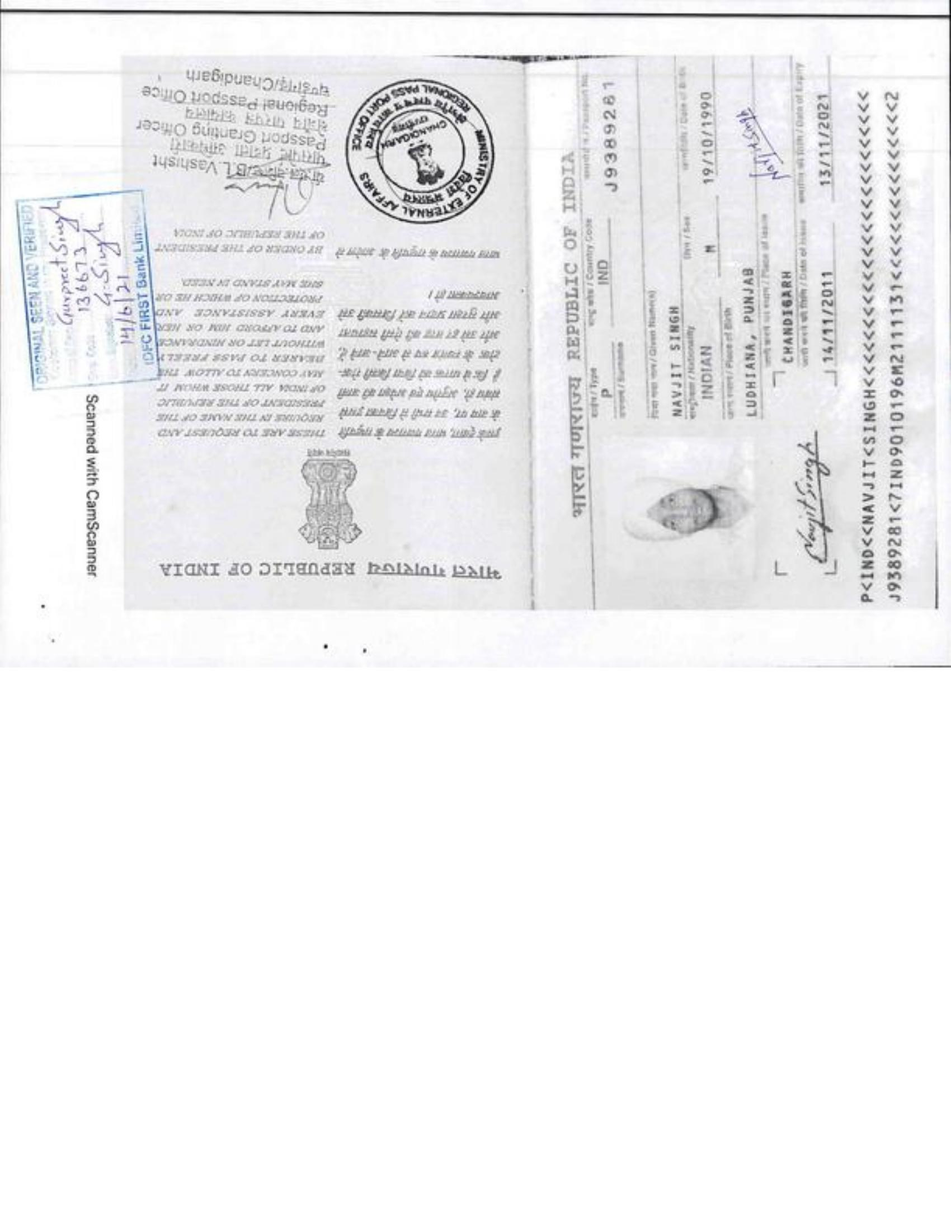DOB: (684, 88, 728, 196)
country_code: (593, 245, 623, 292)
date_of_expiry: (804, 88, 842, 195)
date_of_issue: (813, 257, 849, 372)
details: (848, 79, 911, 608)
name: (655, 293, 693, 424)
nationality: (688, 341, 721, 419)
passport_no: (595, 80, 630, 209)
photo: (613, 443, 752, 557)
place_of_birth: (736, 257, 765, 436)
place_of_issue: (771, 256, 803, 365)
sex: (704, 235, 725, 263)
sign: (791, 421, 840, 571)
type: (597, 377, 620, 408)
